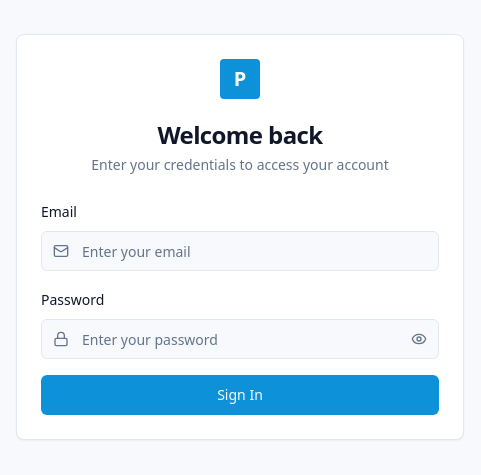
Test: invalid credentials display error message
Type "invalid@example.com" into the field labelled "Email" at (240, 251), box [41,231,439,271]
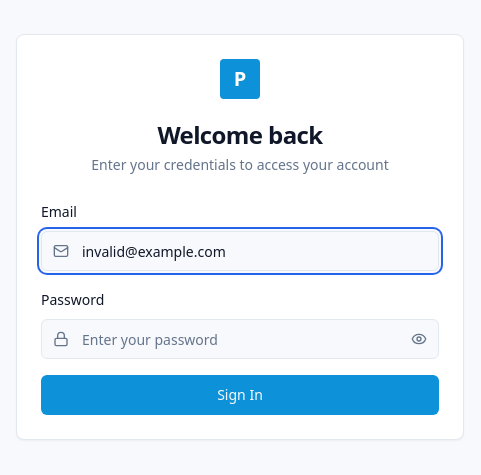
Type "wrong" into the password field labelled "Password" at (240, 339), box [41,319,439,359]
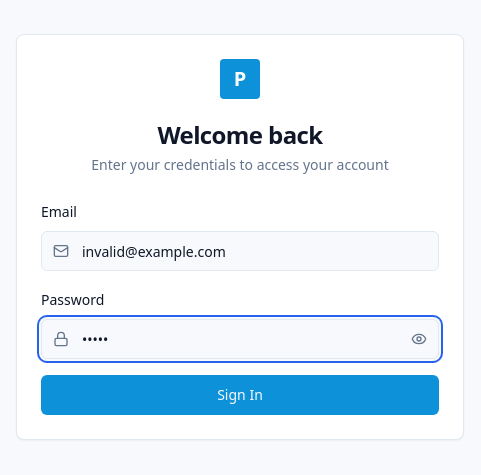
Click the button "Sign In" at (240, 395), box [41,375,439,415]
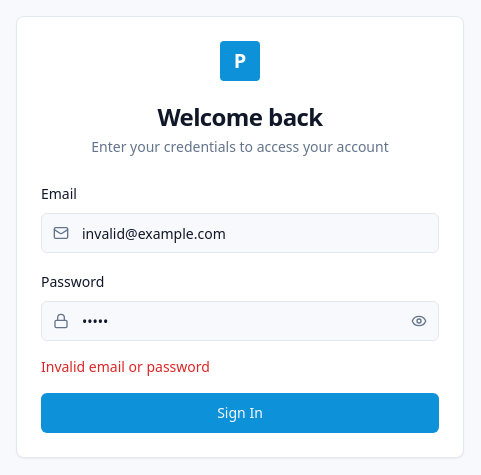
Result: the text "Invalid email or password" is shown at [41,357,210,376]
